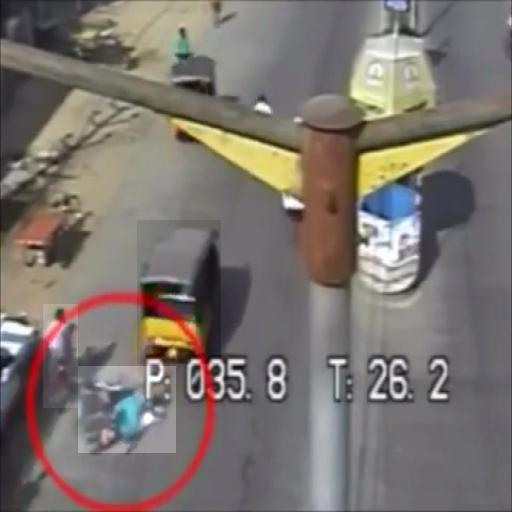小汽车: (137, 220, 221, 364)
自行车: (78, 366, 176, 453), (43, 304, 78, 408)
